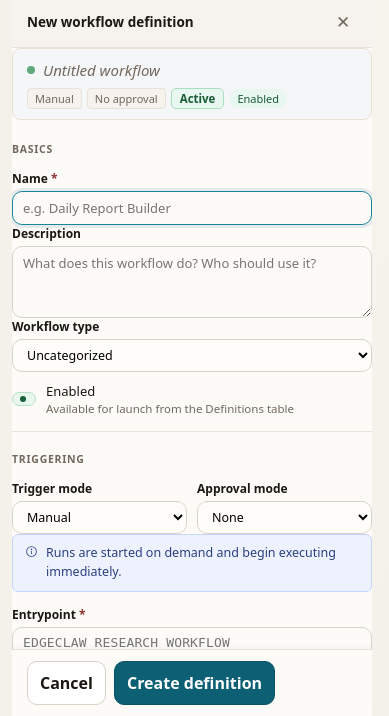
Test case: Form validation › submitting an empty form shows required-field errors and the error summary
The image size is (389, 716).
Click the button "Create definition": [194, 683] box left=114, top=661, right=275, bottom=705
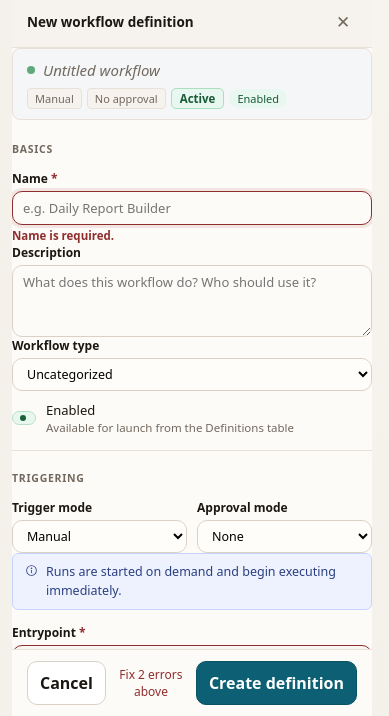
Expected: the text "Name is required." is shown, left=12, top=228, right=114, bottom=243
Expected: the message reads "Fix 2 errors above", left=119, top=666, right=182, bottom=700
